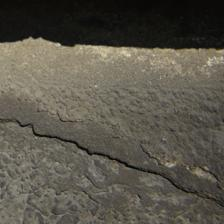Crack: (6, 117, 220, 204)
